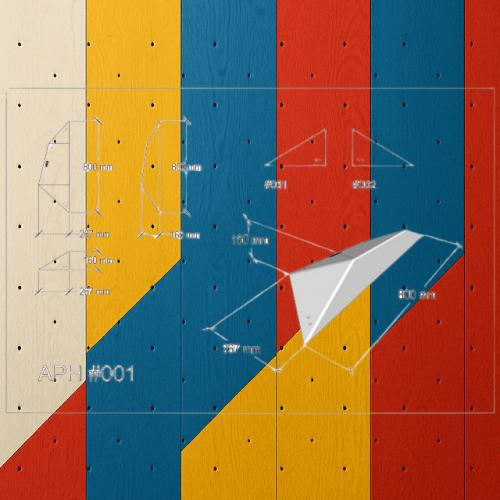Volume: (288, 228, 423, 345)
